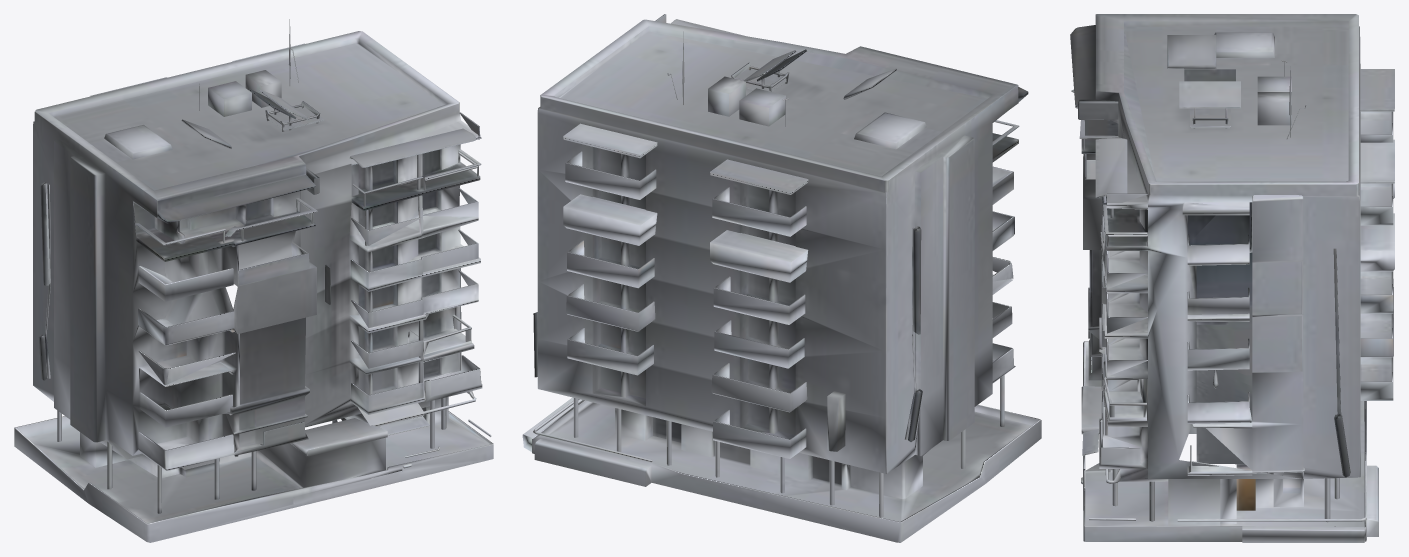
The model's file is city_hdb.glb.
3 renders of one model, left to right at view 1: azimuth 30°, elevation 25°; view 2: azimuth 150°, elevation 25°; view 3: azimuth 270°, elevation 25°, orthographic. The views are drawn at different scales.
Visible parts, largest first — view 1: Body; view 2: Body; view 3: Body.
Part boxes in pixels (left/top/right/bottom): Body: left=14, top=19, right=493, bottom=542; Body: left=522, top=14, right=1041, bottom=542; Body: left=1070, top=14, right=1394, bottom=542.
Size of the model in its own units: 27.34 by 27.8 by 19.24.
Materials: 1 (1 with a texture image).
